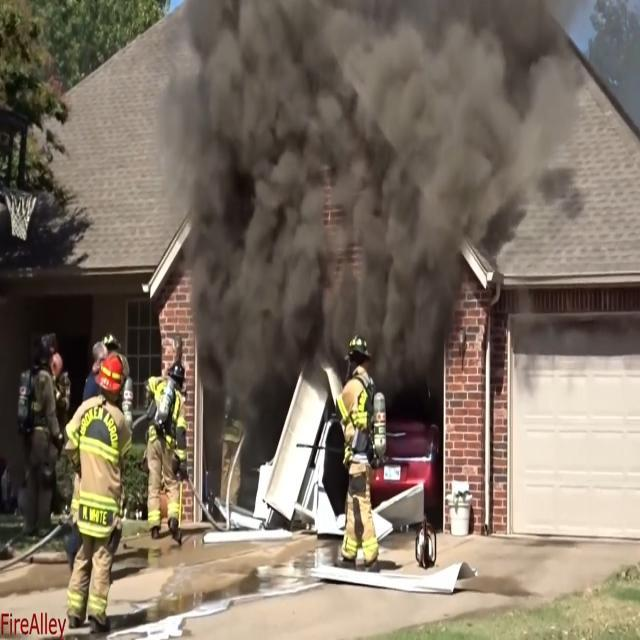Smoke: (167, 0, 478, 340)
